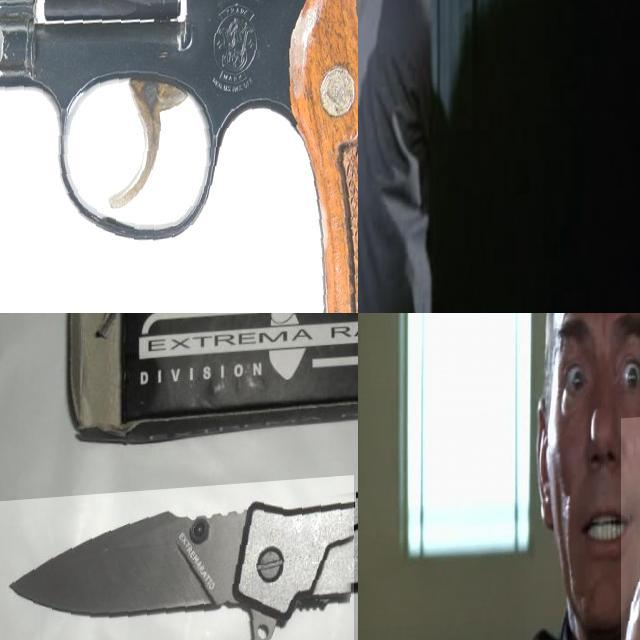-: (0, 481, 354, 640)
gun-knife-thesis - v11 Yolov5 augmented: (0, 0, 358, 313), (358, 237, 386, 313)
